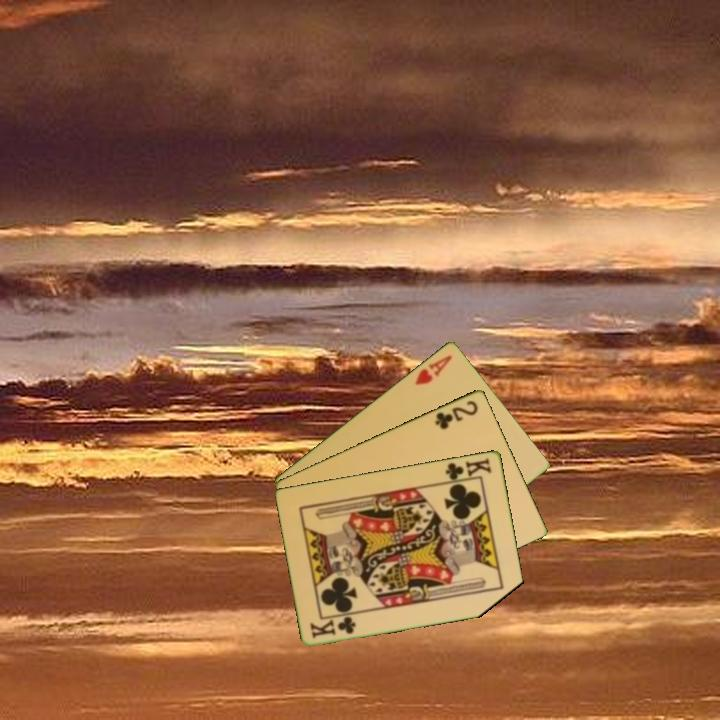2c: (432, 396, 481, 432)
Ah: (411, 351, 455, 388)
Kc: (442, 454, 494, 485), (307, 613, 359, 641)
